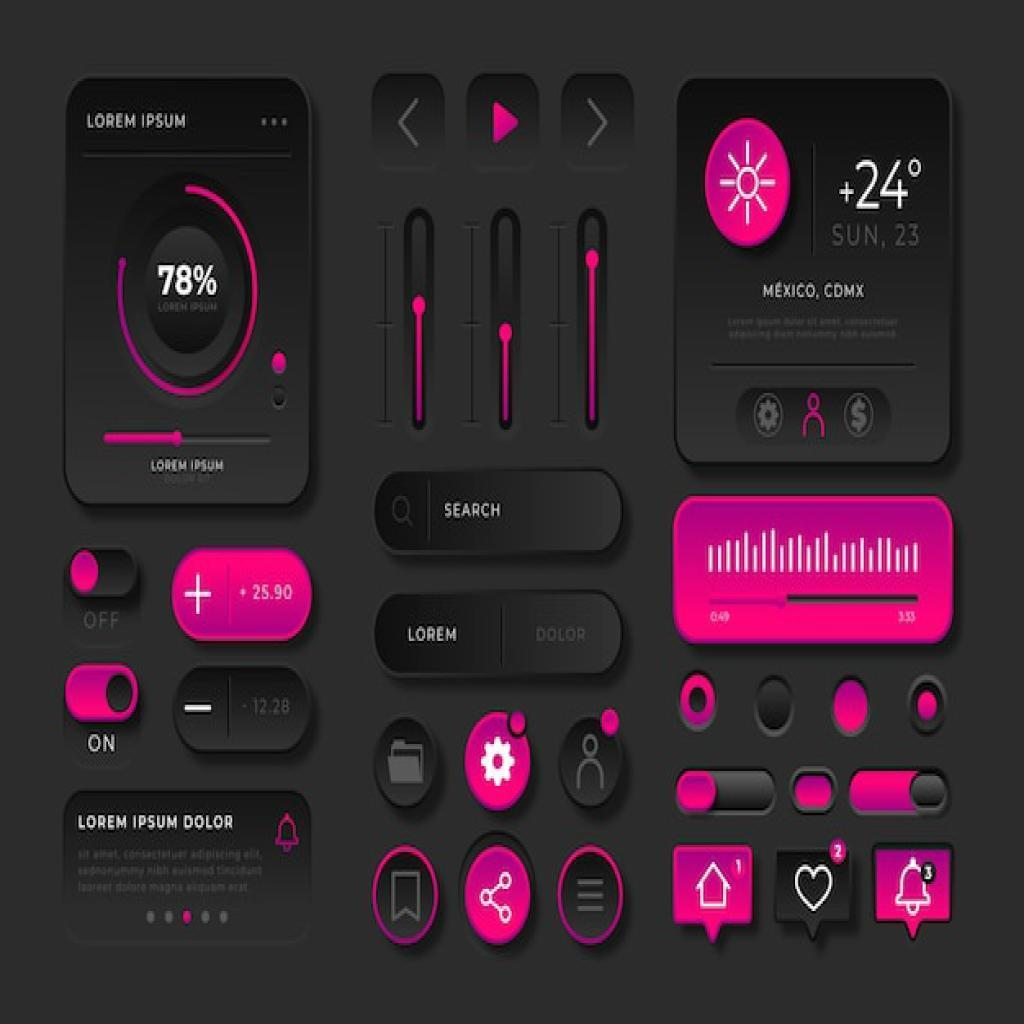icon: (787, 860, 844, 914), (887, 861, 943, 914), (477, 867, 522, 930), (691, 857, 738, 915), (381, 739, 428, 795), (575, 732, 609, 801), (387, 871, 425, 928), (478, 739, 519, 790), (575, 872, 611, 925), (272, 809, 303, 853)
input: (378, 594, 625, 677), (377, 475, 622, 555)
radio: (901, 666, 950, 752), (743, 671, 800, 739), (825, 671, 872, 746), (677, 668, 717, 739)
slider: (375, 196, 444, 443), (468, 200, 531, 441), (564, 198, 620, 439)
switch: (848, 763, 958, 824), (57, 656, 140, 729), (63, 540, 145, 611), (672, 767, 776, 821)
